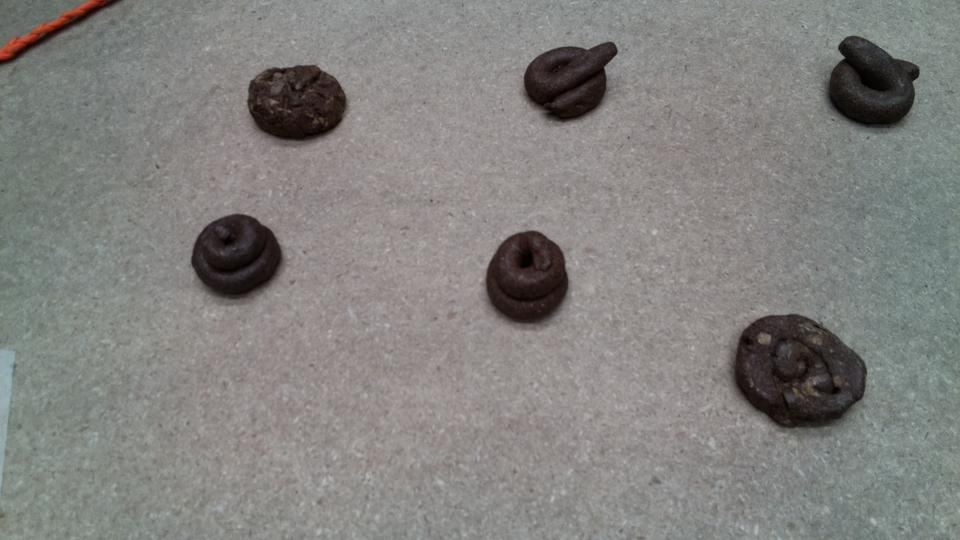poop: (730, 310, 870, 436), (183, 204, 299, 308), (822, 30, 925, 137), (243, 61, 356, 145), (479, 231, 579, 323), (518, 39, 623, 123)
